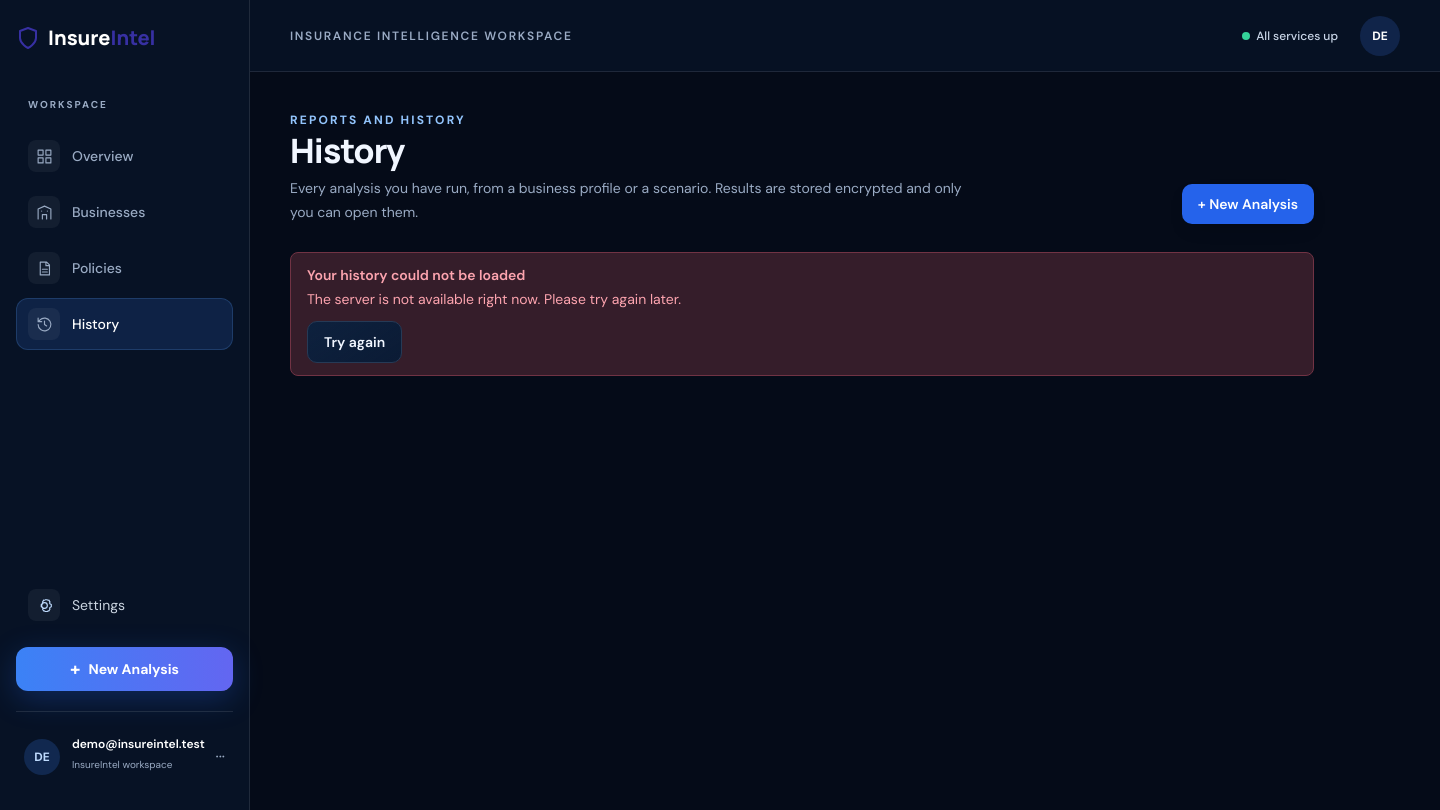
Test case: history page › shows an error with a retry
This screenshot has width=1440, height=810.
expect the heading "History" is shown: met, box [290,127,404,173]
expect the text "Your history could not be loaded" is shown: met, box [307,266,525,284]
Click the button "Try again" at (355, 342), box [307,321,402,363]
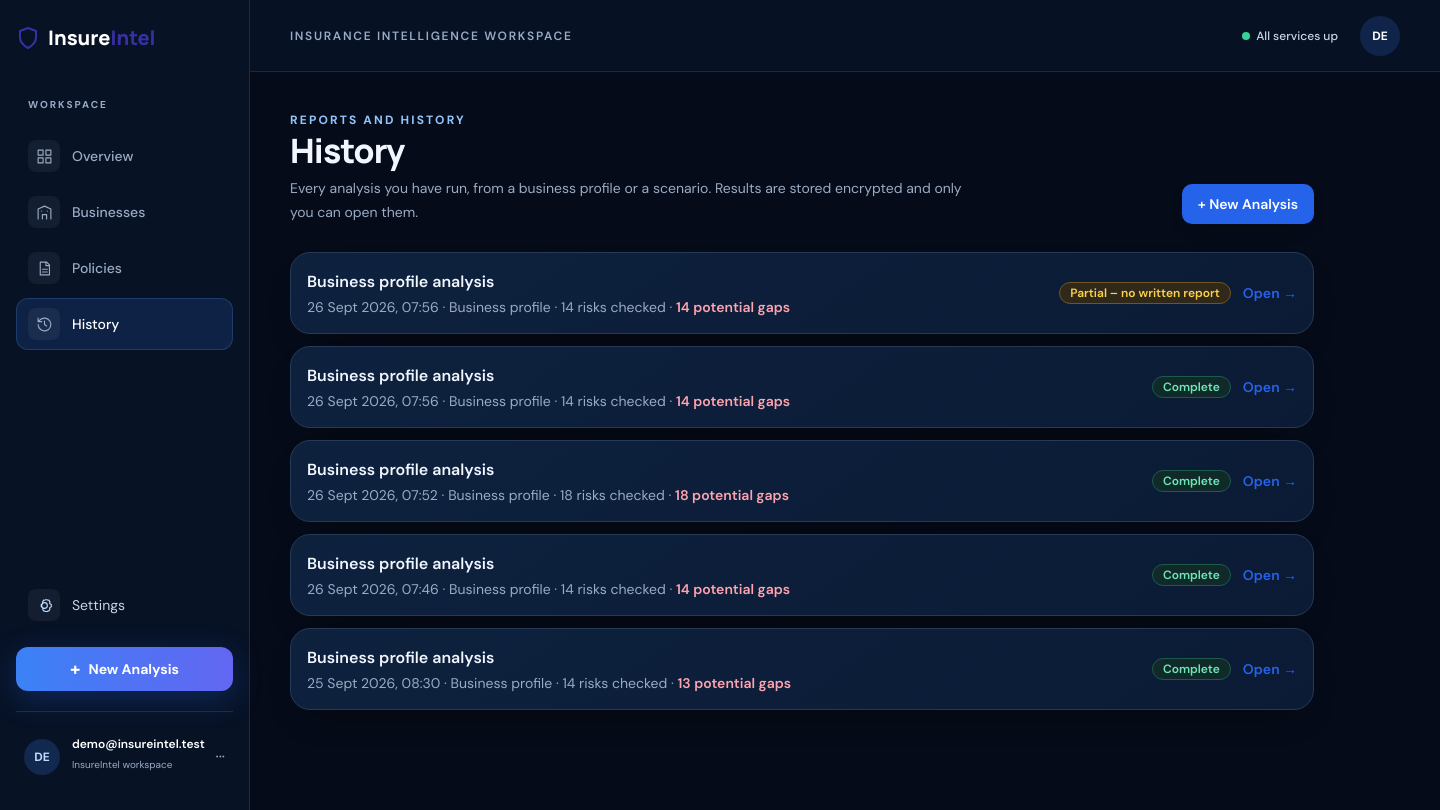
expect the list named "Past analyses" is shown: met, box [290,252,1314,710]
